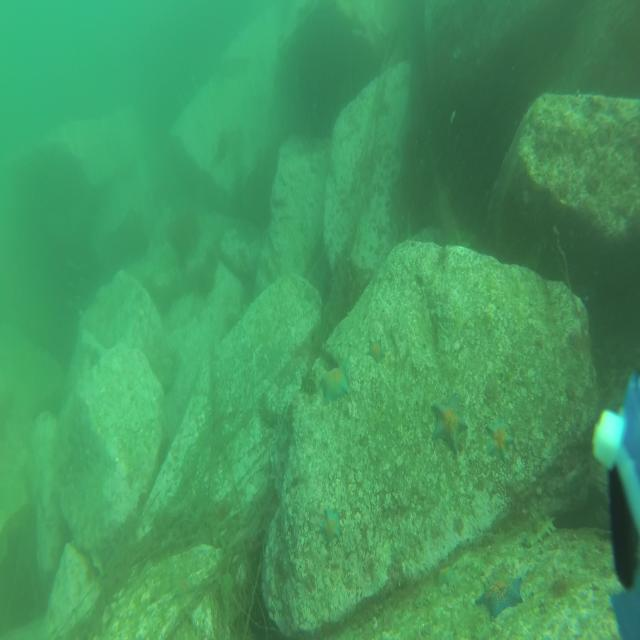holothurian: (521, 513, 558, 551), (256, 389, 282, 432)
starfish: (430, 390, 469, 457), (474, 574, 525, 622), (318, 357, 353, 407), (484, 413, 515, 466), (318, 506, 342, 543), (170, 573, 197, 603), (436, 562, 459, 588), (366, 337, 386, 366), (304, 282, 318, 306)
